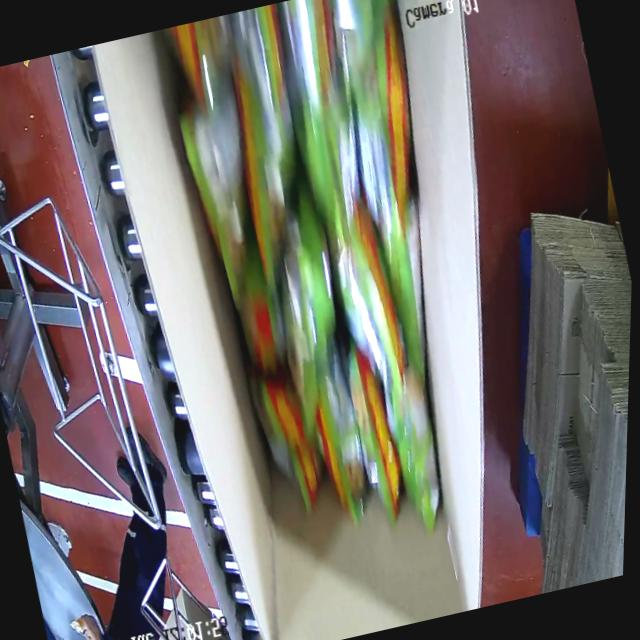YOGURT_HERB: (155, 0, 505, 553)
